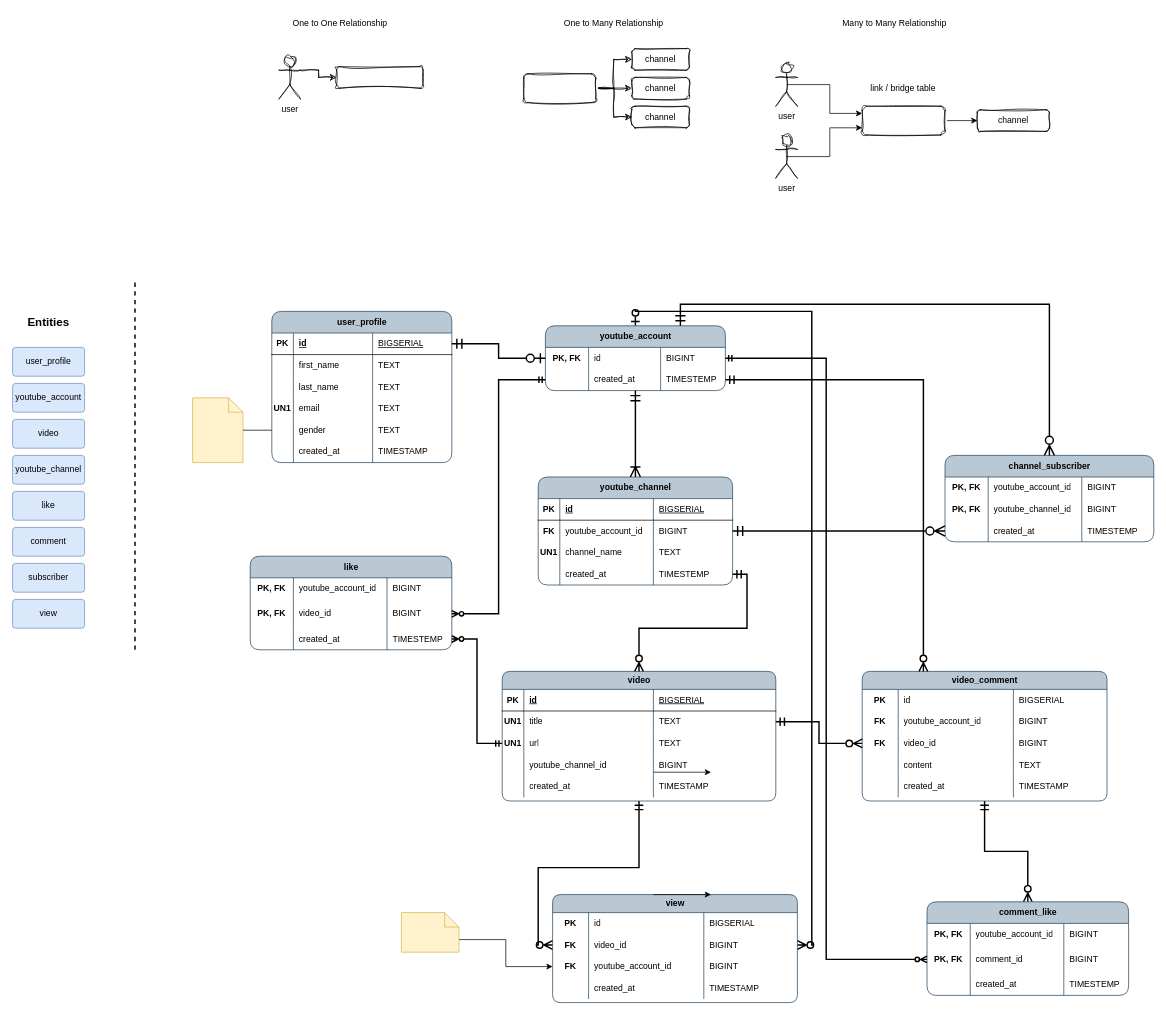
Some shapes in this 1166 by 1015 pixel diagram are drawn without their labels. Here are the shapes that lost their labels. From the top down, the centre of each, then its label:
At [379,77]: "youtube account".
At [559,88]: "account".
At [903,120]: "channel subscriber".
At [217,430]: "MALE, FEMALE".
At [430,932]: "can be null".
